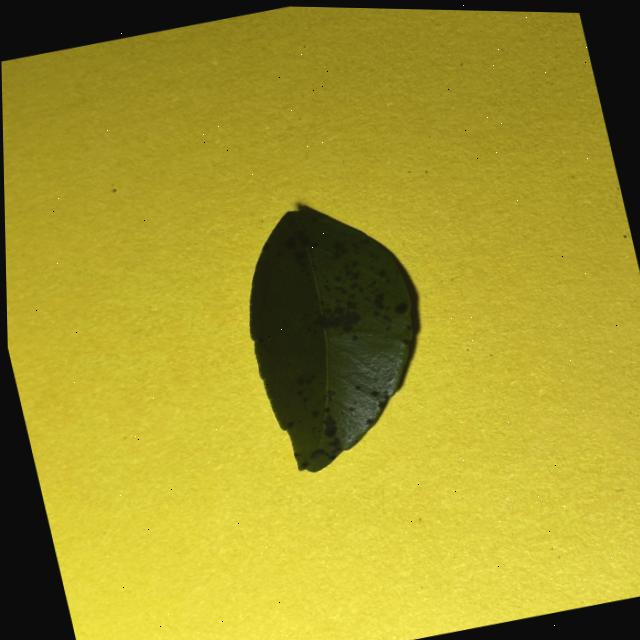sooty_mold: (249, 209, 411, 472)
